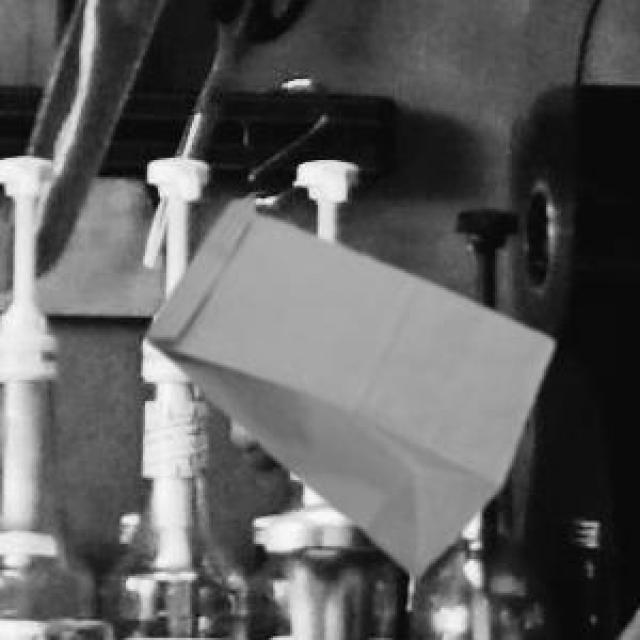paper: (143, 196, 548, 572)
